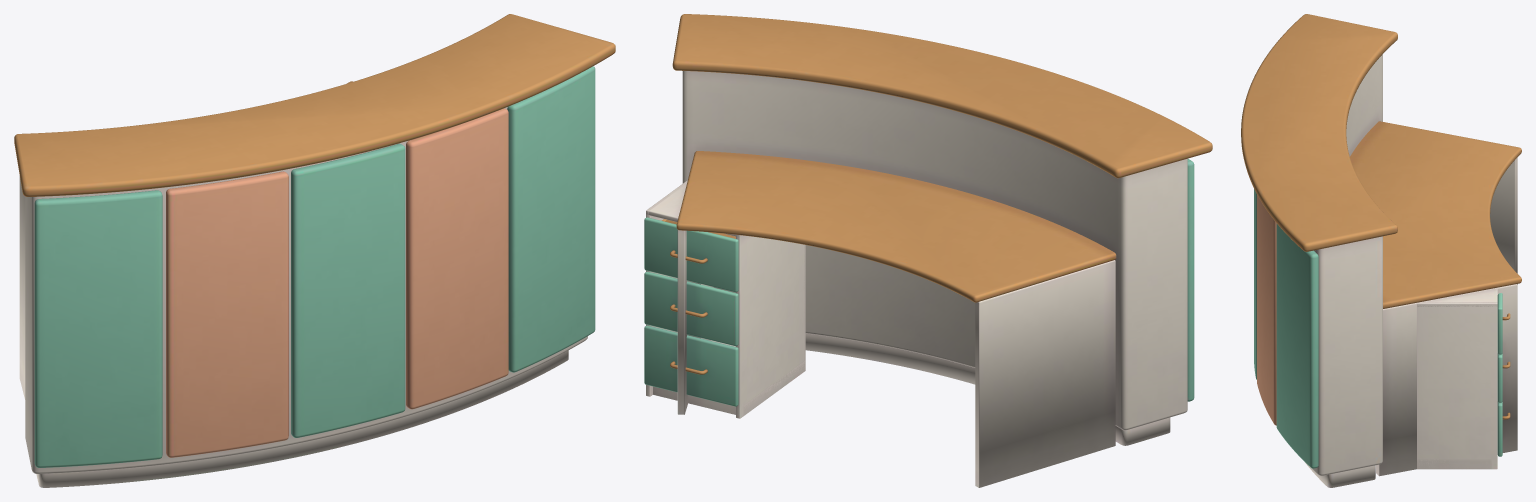
The model's file is reception-desk.fbx.
3 views of the same model, side by side, from view 1: azimuth 30°, elevation 25°; view 2: azimuth 150°, elevation 25°; view 3: azimuth 270°, elevation 25° (orthographic). The views are drawn at different scales.
Parts seen in each view (by area): view 1: reception-desk_body; view 2: reception-desk_body, reception-desk_top_drawer; view 3: reception-desk_body, reception-desk_top_drawer.
Boxes of the visible parts, x1=… form: reception-desk_body: x1=14, y1=14, x2=615, y2=487; reception-desk_body: x1=644, y1=14, x2=1212, y2=487; reception-desk_top_drawer: x1=644, y1=217, x2=738, y2=292; reception-desk_body: x1=1241, y1=14, x2=1521, y2=487; reception-desk_top_drawer: x1=1497, y1=293, x2=1510, y2=354.
Size of the model in its own units: 2.13 by 1.1 by 1.09.
Materials: 2 (2 with a texture image).
